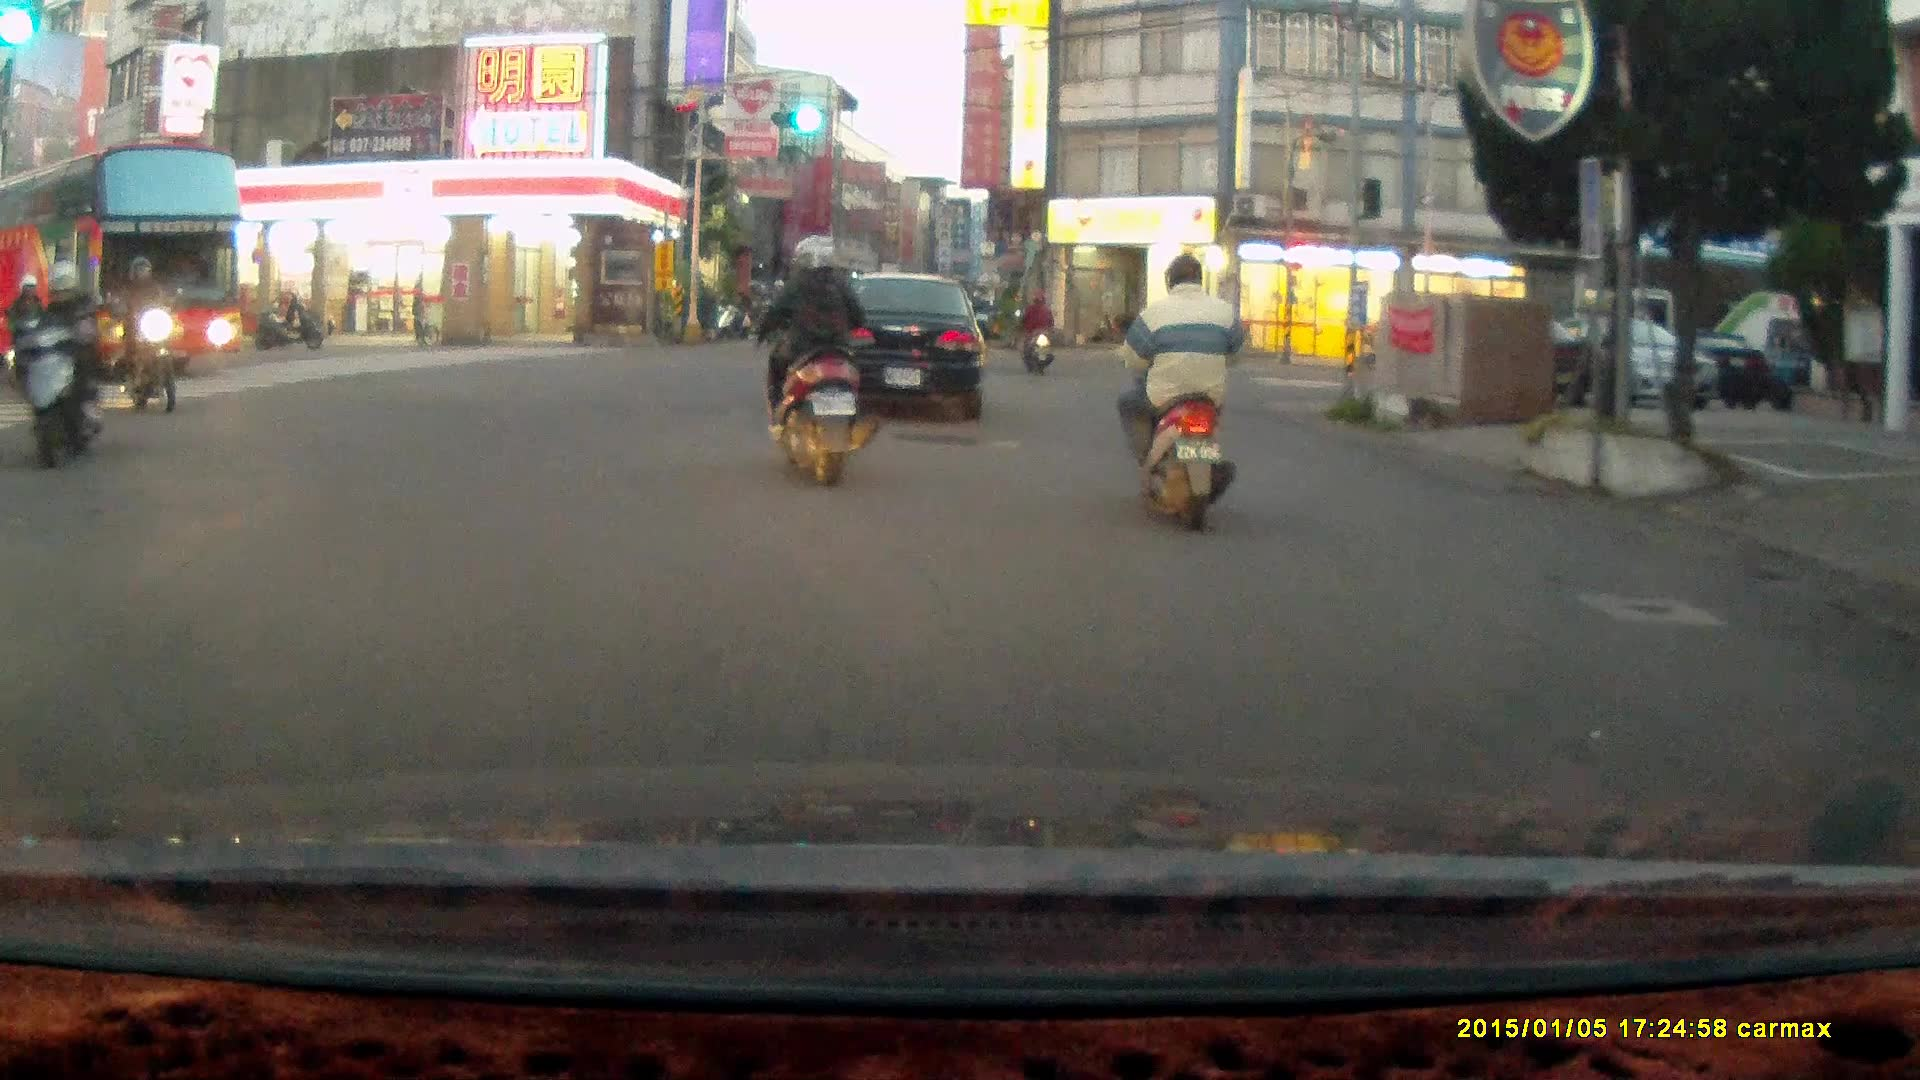rider: (1117, 254, 1237, 538), (753, 229, 882, 492), (17, 260, 105, 471), (104, 251, 175, 420), (0, 272, 51, 398), (1017, 293, 1055, 377)
vehicle: (1, 147, 238, 389), (1492, 311, 1724, 414)
